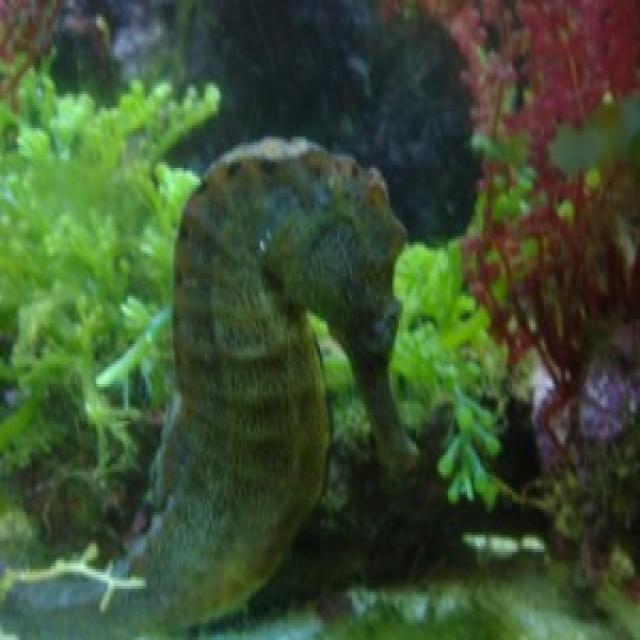Seahorse: (2, 125, 418, 640)
